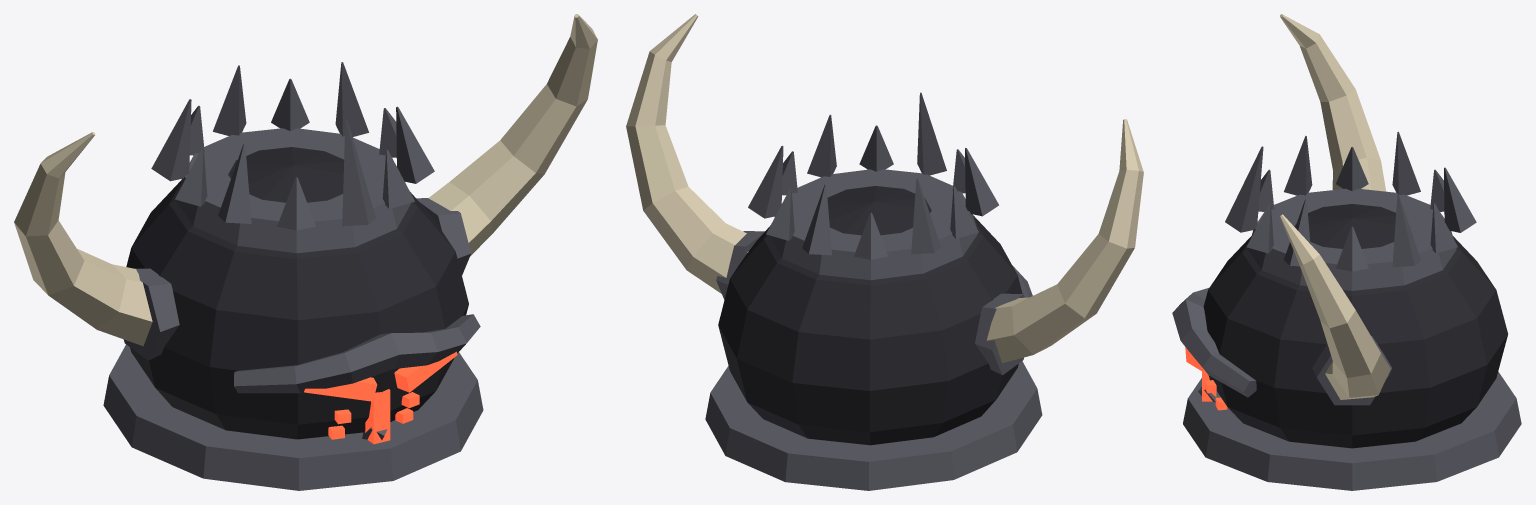
File: Boss_Knight_Helm.fbx
The picture shows the model from 3 angles, left to right: view 1: azimuth 30°, elevation 25°; view 2: azimuth 150°, elevation 25°; view 3: azimuth 270°, elevation 25°; orthographic projection. The views are drawn at different scales.
Visible parts, largest first — view 1: Boss_Knight_Helm; view 2: Boss_Knight_Helm; view 3: Boss_Knight_Helm.
Part boxes in pixels (x1,y1,x2,y2): Boss_Knight_Helm: [14, 14, 597, 490]; Boss_Knight_Helm: [626, 14, 1143, 490]; Boss_Knight_Helm: [1172, 14, 1521, 490].
Size of the model in its own units: 1.17 by 0.8337 by 0.7391.
